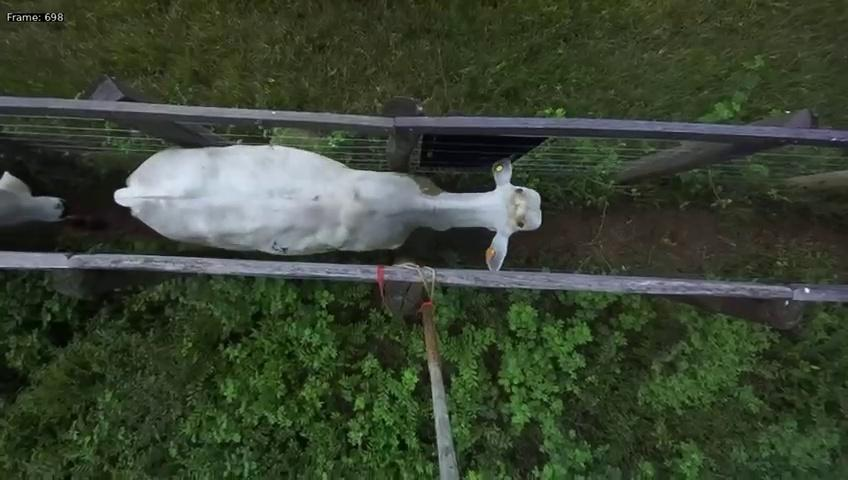cattle: (110, 125, 543, 270)
